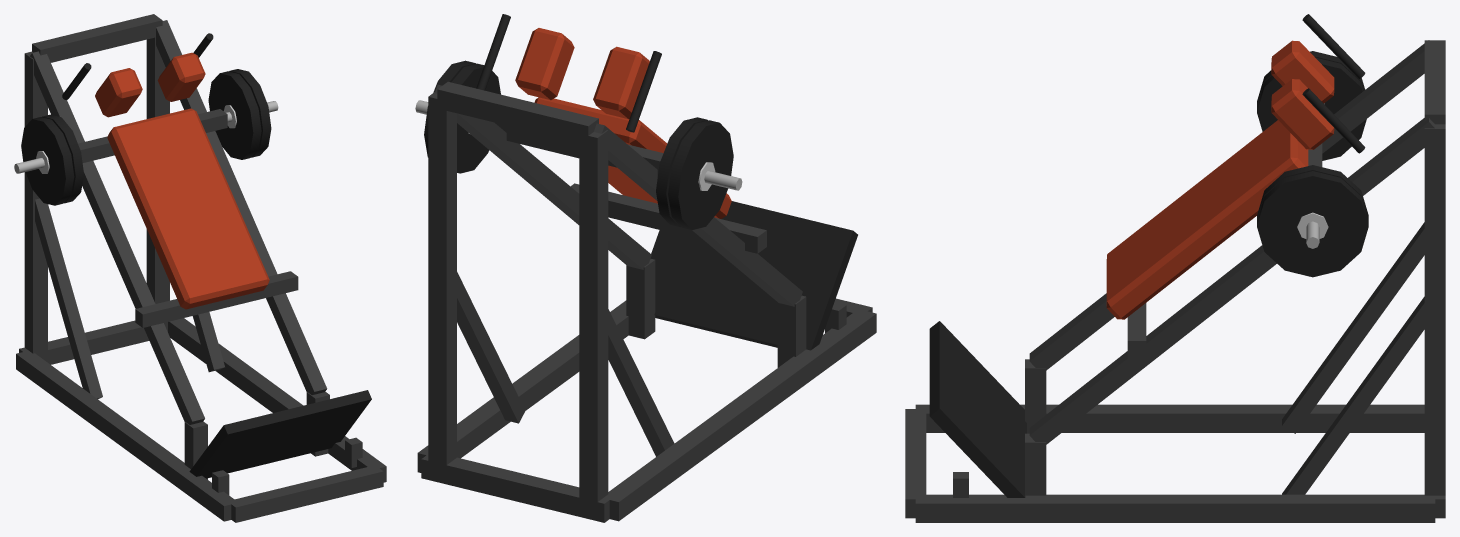
The model's file is Hack_Squat.fbx.
3 renders of one model, left to right at view 1: azimuth 30°, elevation 25°; view 2: azimuth 150°, elevation 25°; view 3: azimuth 270°, elevation 25°, orthographic. The views are drawn at different scales.
Parts seen in each view (by area): view 1: Hack_Squat; view 2: Hack_Squat; view 3: Hack_Squat.
Part boxes in pixels (x1,y1,x2,y2): Hack_Squat: (14, 14, 386, 522); Hack_Squat: (415, 14, 876, 522); Hack_Squat: (905, 14, 1445, 522).
Bounding box in the file's own units: 140 × 175 × 203.
